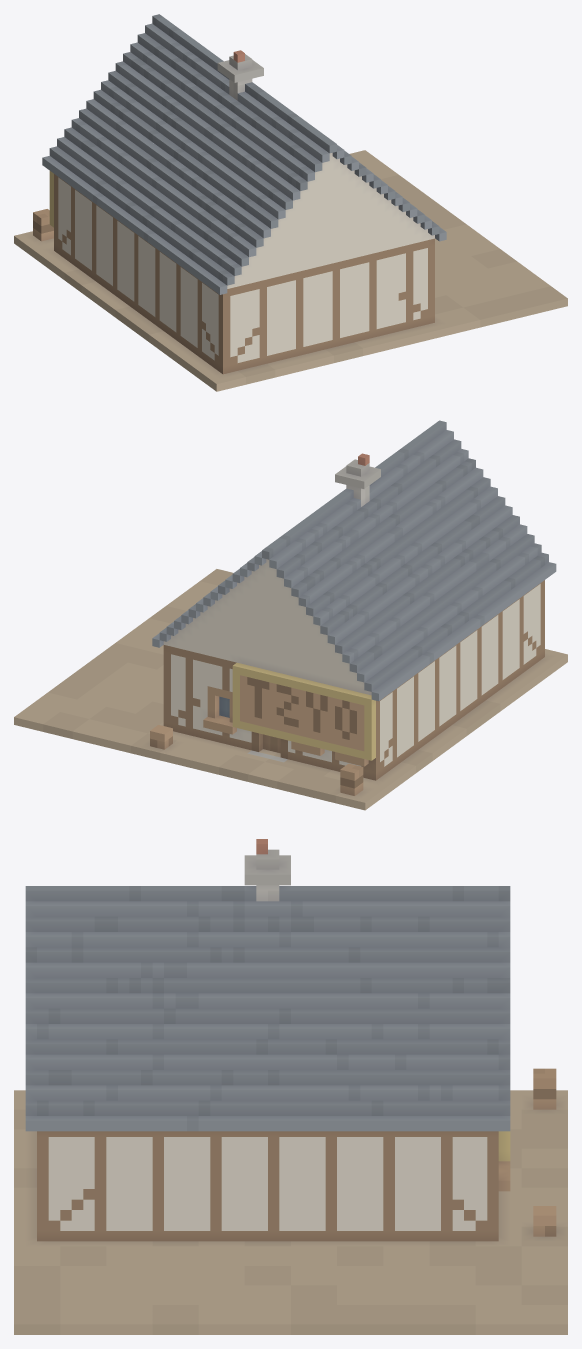
The model's file is oyster_house.glb.
3 renders of one model, top to bottom at view 1: azimuth 30°, elevation 25°; view 2: azimuth 150°, elevation 25°; view 3: azimuth 270°, elevation 25°, orthographic. The views are drawn at different scales.
Parts seen in each view (by area): view 1: oyster_house; view 2: oyster_house; view 3: oyster_house.
Boxes of the visible parts, x1,y1,x2,y2 form: oyster_house: (14, 14, 567, 391); oyster_house: (14, 420, 567, 810); oyster_house: (14, 839, 567, 1334).
Size of the model in its own units: 6 by 4 by 6.
